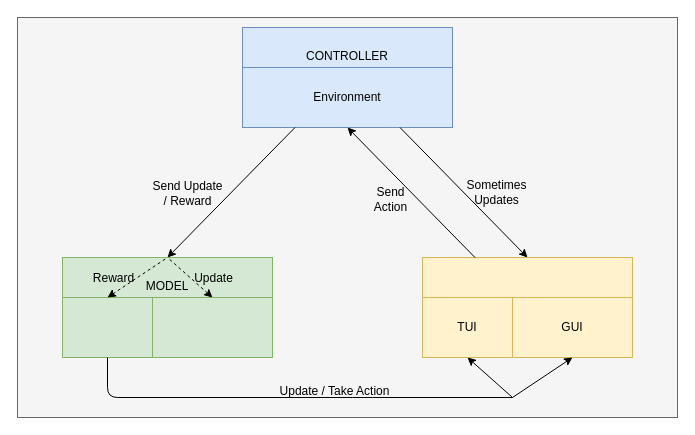
Some shapes in this 695 by 435 pixel diagram are drawn without their labels. The shapes that lost their labels are listed below. From the top down, each one's box as (x1, y1, x2, y2) in pixels, then its label:
(62, 296, 152, 358): Agent
(152, 296, 272, 358): Maze
(422, 256, 632, 358): VIEW
